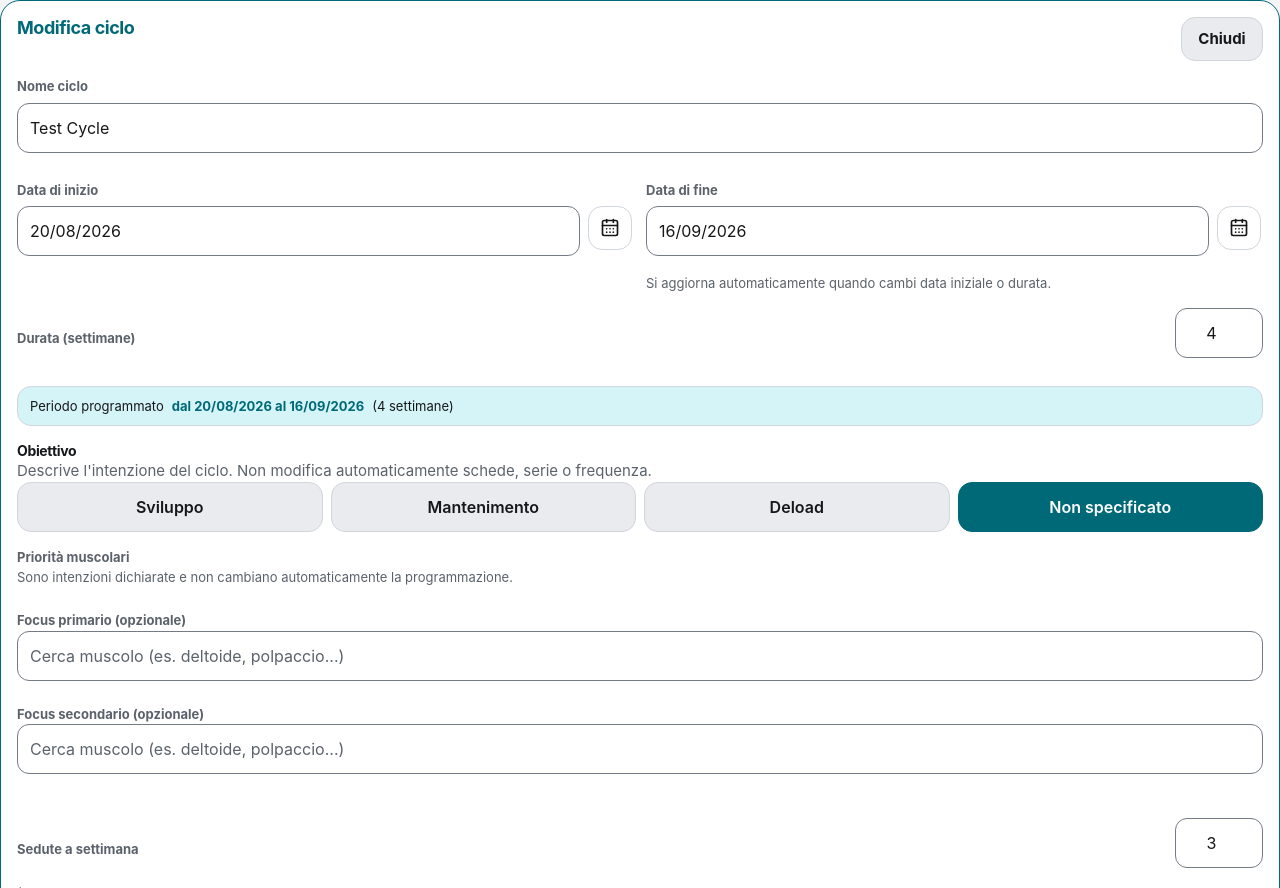
Scenario: Challenger 2 Empirical Verification: CycleEditor UI & Two-Way Binding › Scenario 1: Duration Weeks change immediately updates End Date (text and calendar value)
Expected: the field with id "cycle-end-date" holds "16/09/2026", [646, 206, 1209, 256]
Change duration from 4 to 8 weeks
Replace the text in the number field with id "cycle-duration-weeks" with "8" at {"x": 1219, "y": 333}, box [1175, 308, 1263, 358]
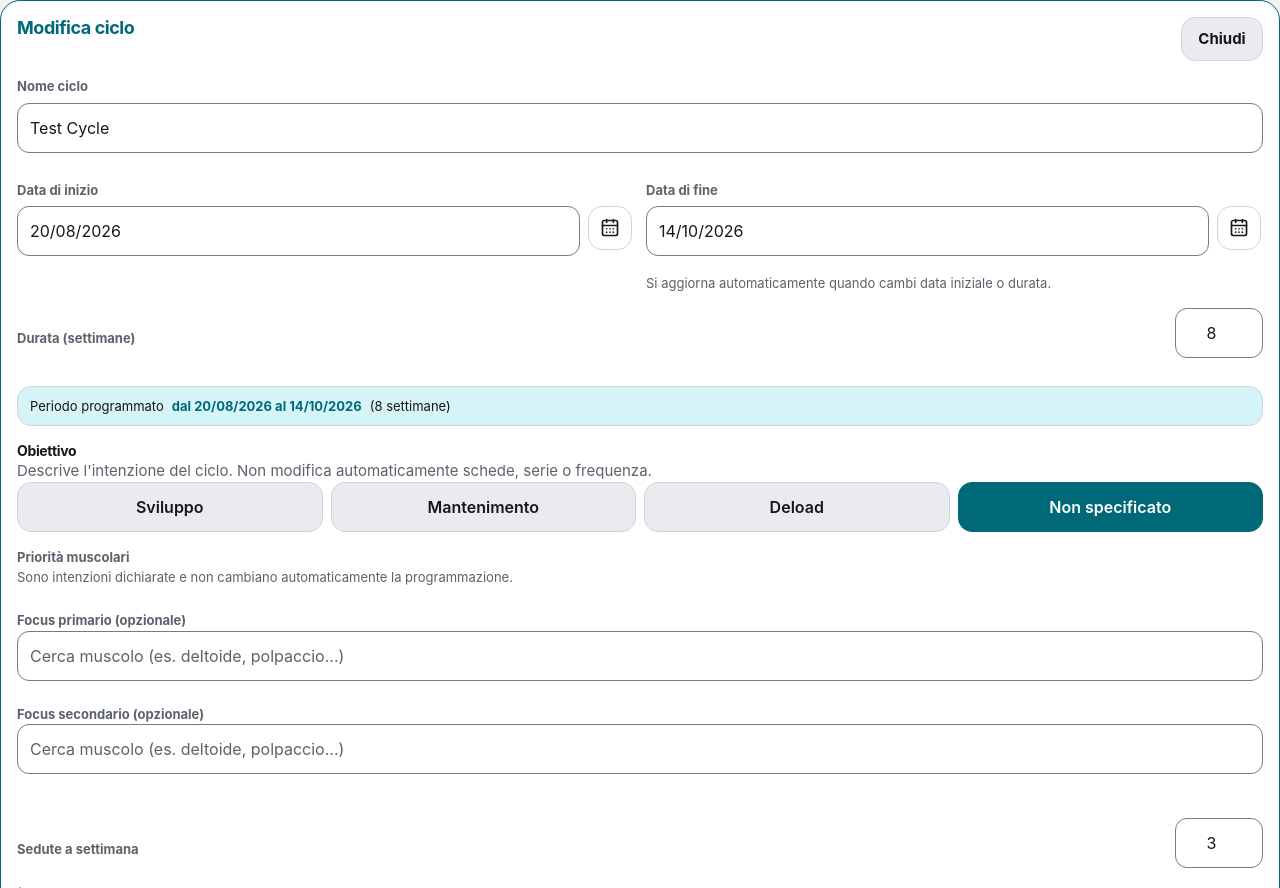
Expected: the field with id "cycle-end-date" holds "14/10/2026", [646, 206, 1209, 256]
